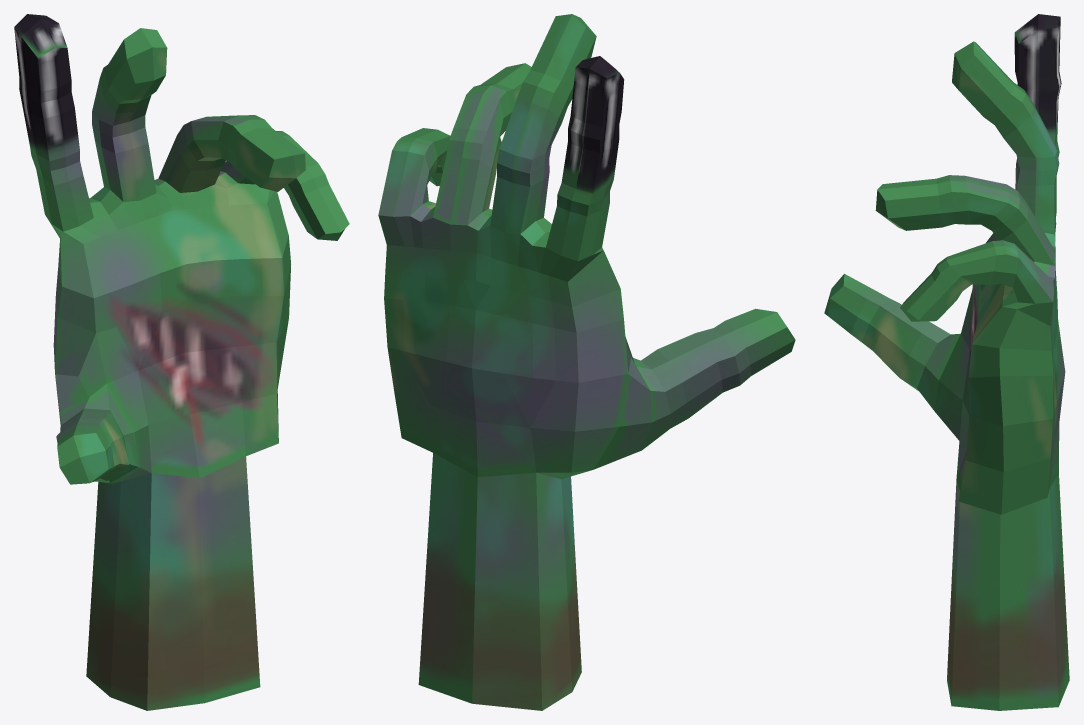
Rendered from zombieHand.fbx.
The picture shows the model from 3 angles, left to right: view 1: azimuth 30°, elevation 25°; view 2: azimuth 150°, elevation 25°; view 3: azimuth 270°, elevation 25°; orthographic projection. The views are drawn at different scales.
Parts seen in each view (by area): view 1: zombieHand; view 2: zombieHand; view 3: zombieHand.
Boxes of the visible parts, x1,y1,x2,y2 form: zombieHand: (14,14,349,710); zombieHand: (378,14,795,710); zombieHand: (824,14,1069,710).
Bounding box in the file's own units: 140 × 275 × 99.09.
